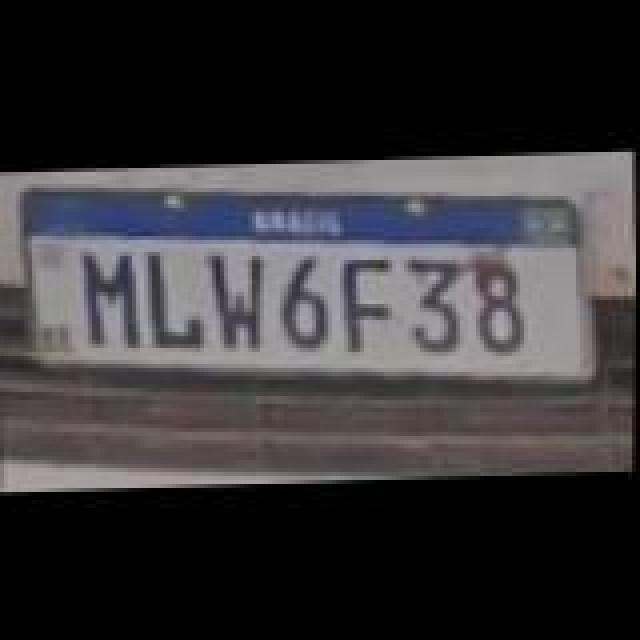3: (400, 254, 472, 354)
6: (272, 250, 344, 350)
8: (460, 258, 532, 354)
F: (332, 252, 404, 352)
L: (136, 244, 216, 348)
M: (70, 246, 154, 354)
W: (202, 250, 278, 354)
